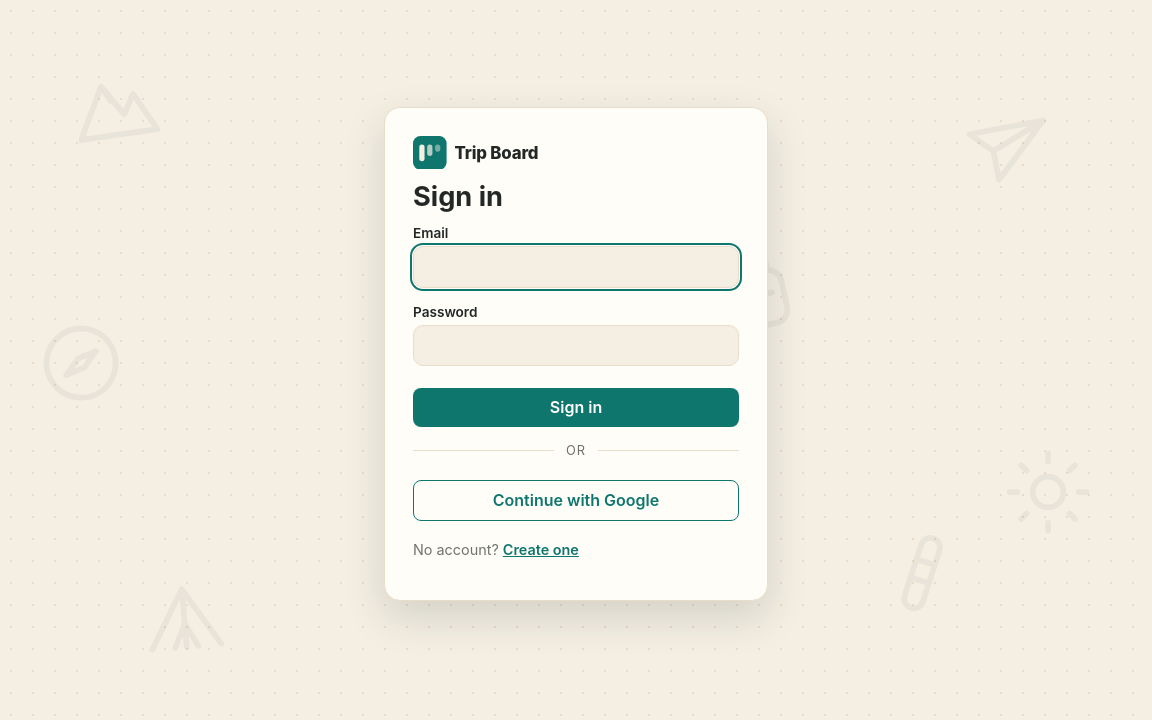
Test: web-board auth flow › signs in and lands on the boards canvas
The width and height of the screenshot is (1152, 720).
Type "ada@example.com" into the field labelled "Email" at (576, 267), box [413,246,739,288]
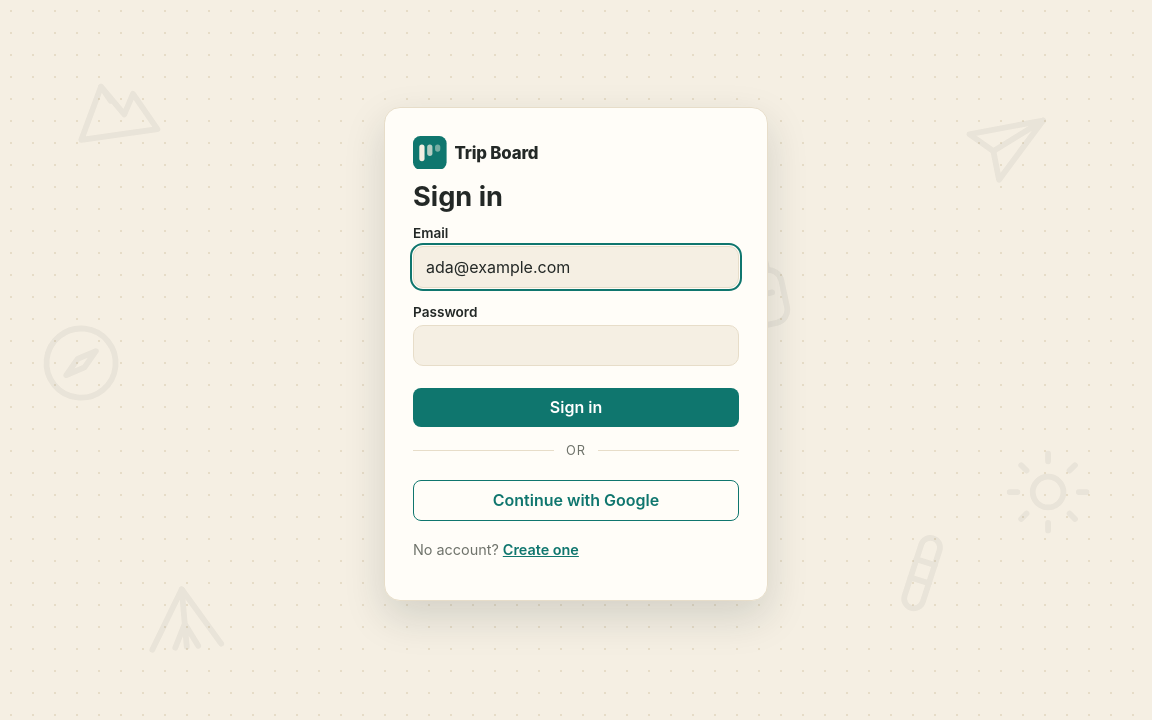
Type "correct-horse" into the password field labelled "Password" at (576, 346), box [413,325,739,366]
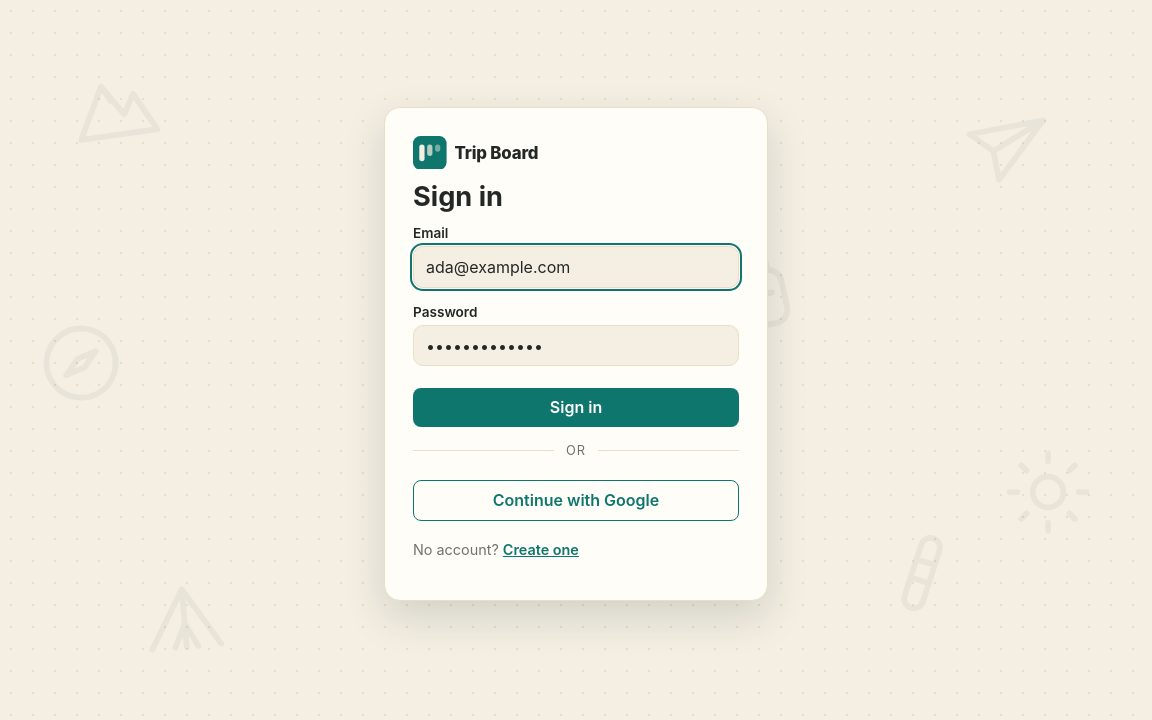
Click the button "Sign in" at (576, 408), box [413,388,739,427]
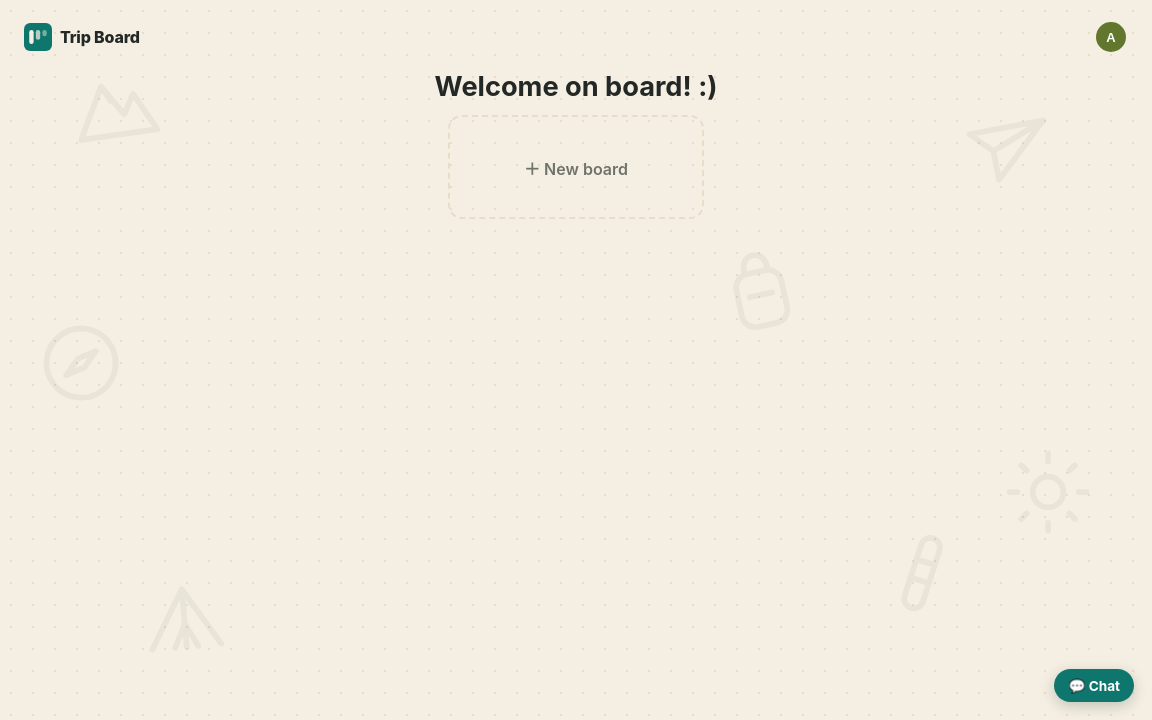
Check: the heading "Welcome on board! :)" is shown, box [434,70,717,103]
Check: the button "＋ New board" is shown, box [448,115,704,219]
